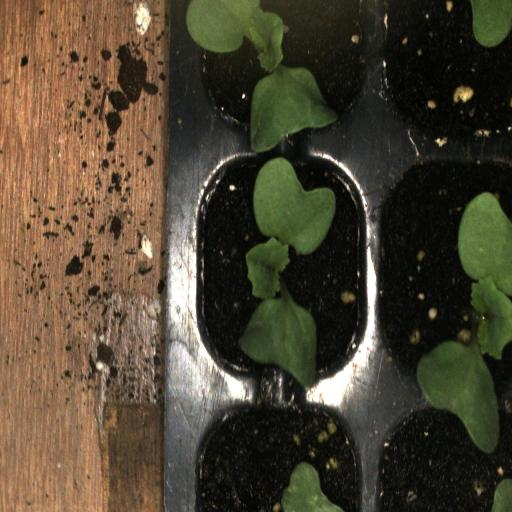Folha: (281, 462, 343, 512), (470, 0, 512, 48)
Germinacao: (182, 142, 382, 391), (370, 143, 512, 407), (193, 0, 369, 142)
